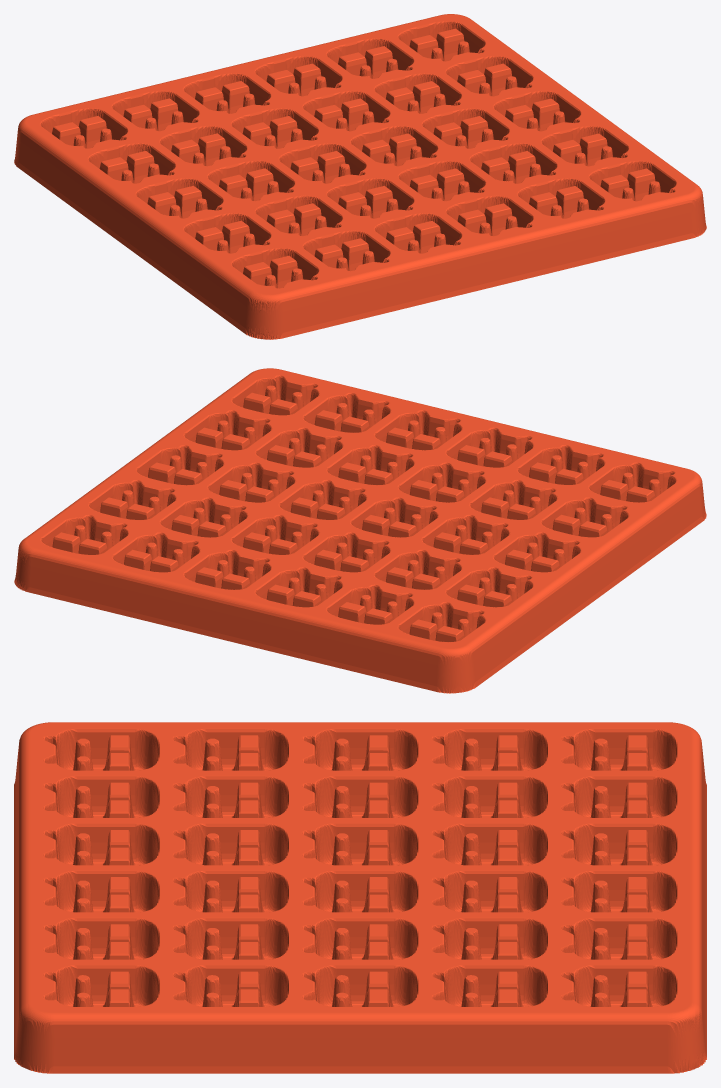
File: mold.glb
3 views of the same model, one above another, from view 1: azimuth 30°, elevation 25°; view 2: azimuth 150°, elevation 25°; view 3: azimuth 270°, elevation 25° (orthographic). The views are drawn at different scales.
Visible parts, largest first — view 1: geometry_0; view 2: geometry_0; view 3: geometry_0.
Part boxes in pixels (bbox=[...]): geometry_0: bbox=[14, 14, 706, 339]; geometry_0: bbox=[14, 368, 706, 693]; geometry_0: bbox=[14, 722, 706, 1073].
Bounding box in the file's own units: 0.1637 × 0.0136 × 0.1581.
